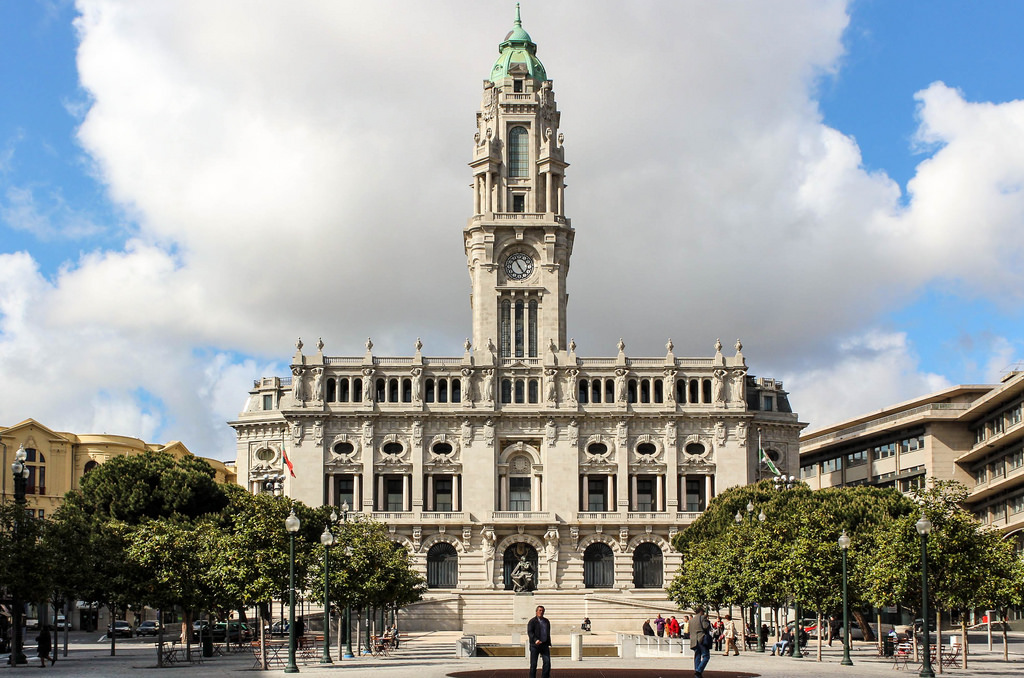camara: (225, 0, 811, 620)
